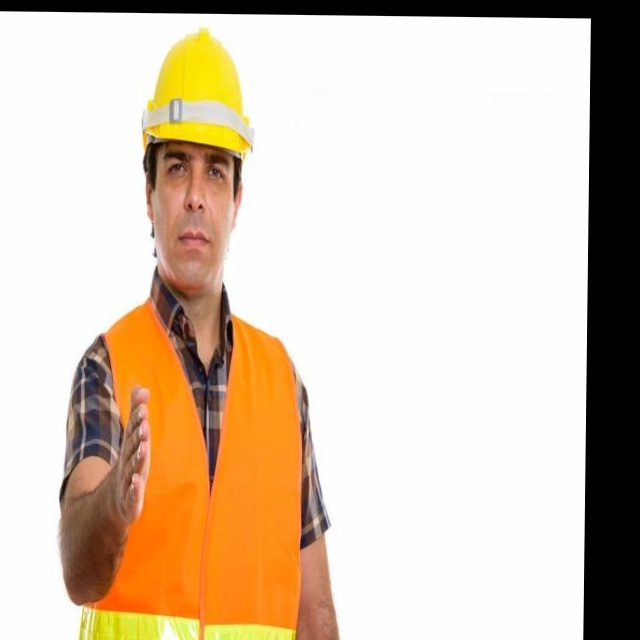Con_Casco: (139, 30, 253, 297)
Con_Chaleco: (81, 313, 302, 640)
